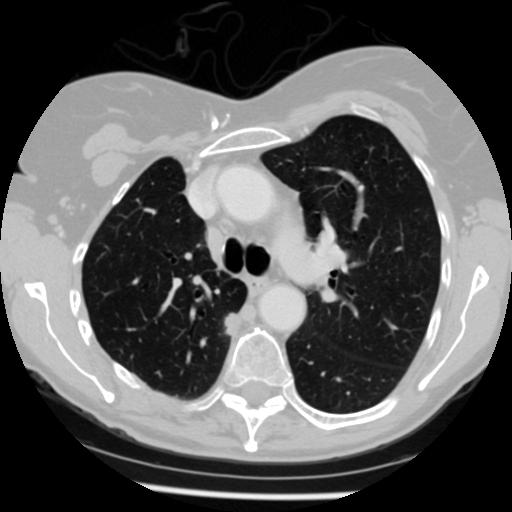nodule: (219, 311, 243, 335)
